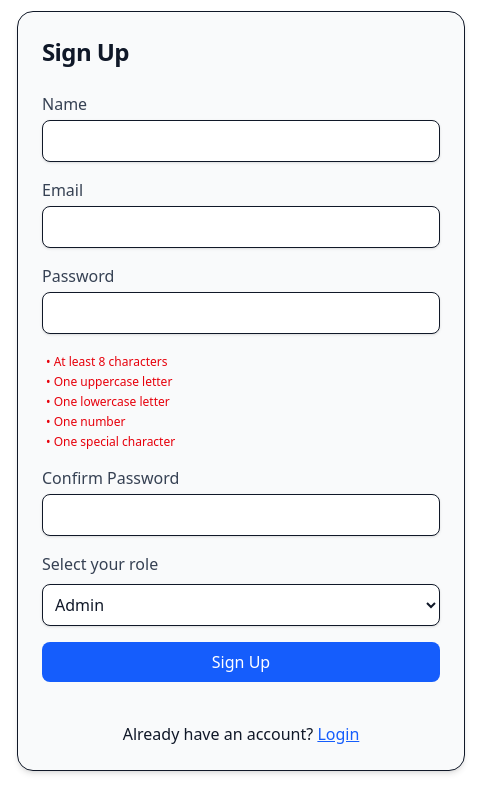
Test: Register Page - unit tests (validation & UI) › should disable submit button when internal isLoading is true
This screenshot has width=483, height=793.
Type "John" into the field labelled "Name" at (241, 141), box 42,120 -> 440,162
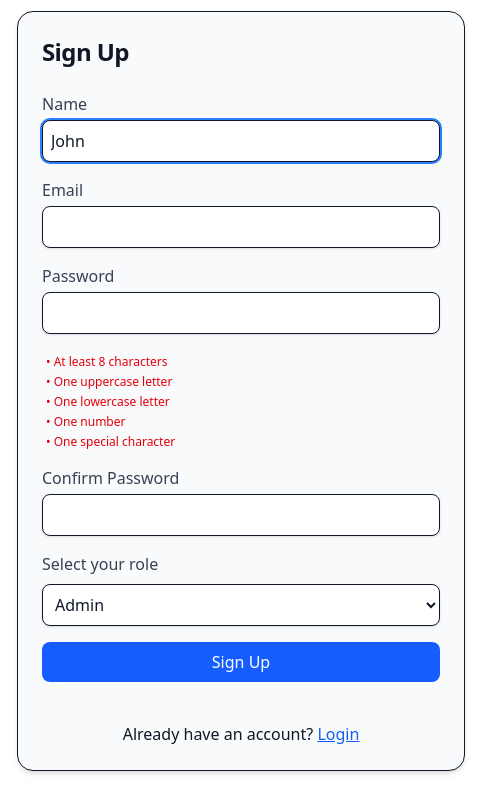
Type "john@example.com" into the field labelled "Email" at (241, 227), box 42,206 -> 440,248
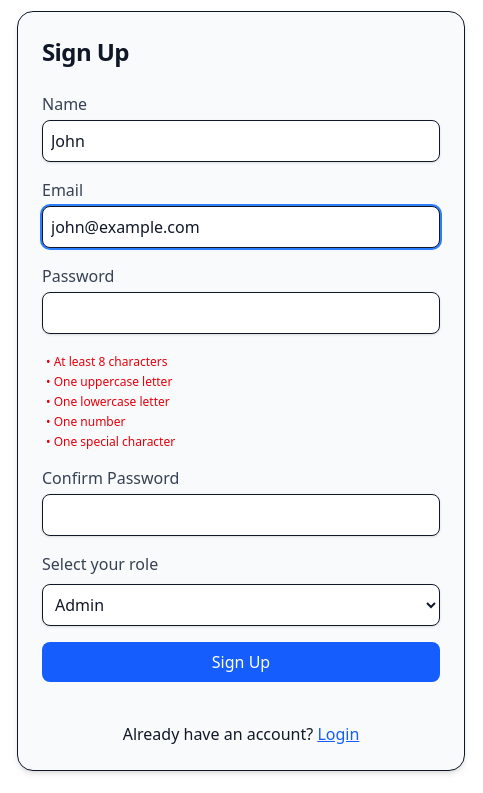
Type "Abc123!@" into the password field labelled "Password" at (241, 313), box 42,292 -> 440,334
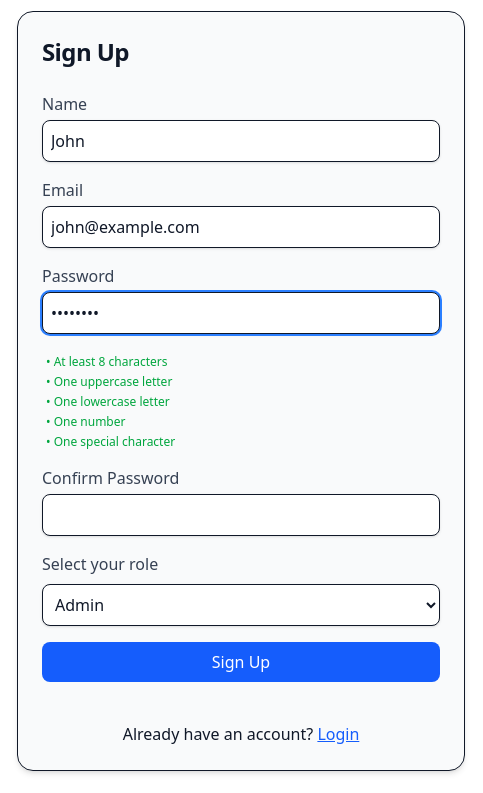
Type "Abc123!@" into the password field labelled "Confirm Password" at (241, 515), box 42,494 -> 440,536
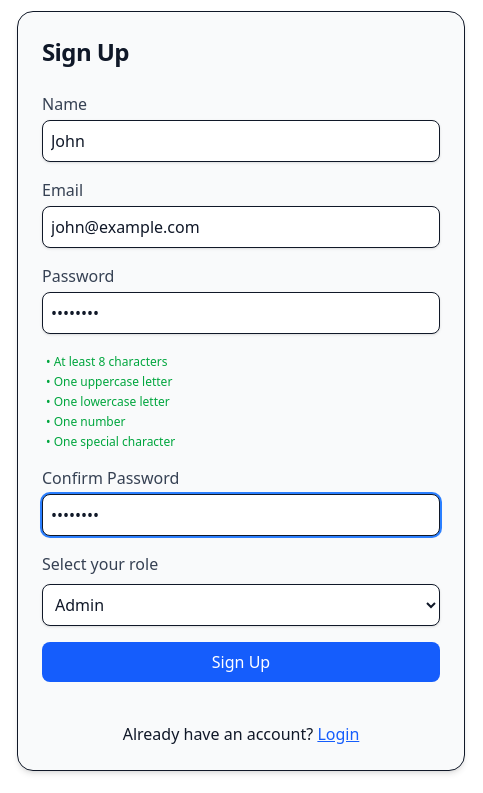
Click the button "Sign Up" at (241, 662), box 42,642 -> 440,682
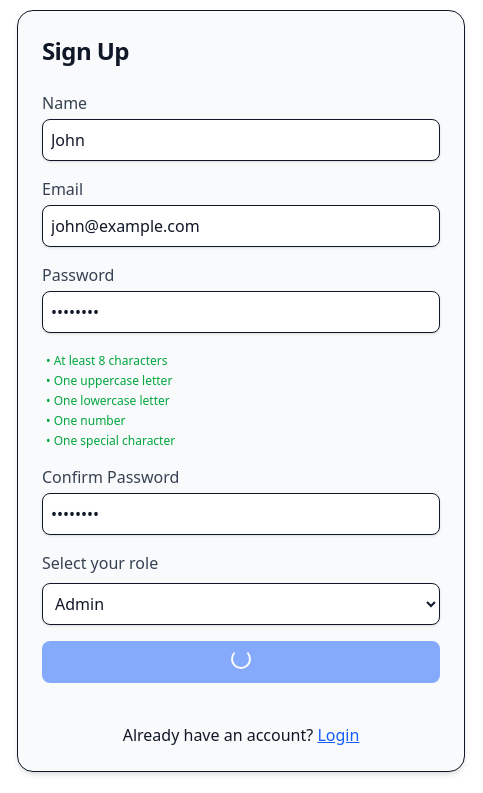
Expected: the button named "sign up" is disabled, 42,641 -> 440,683
